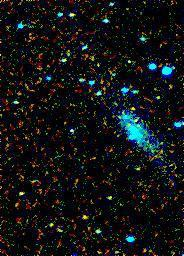star: (119, 95, 149, 125)
